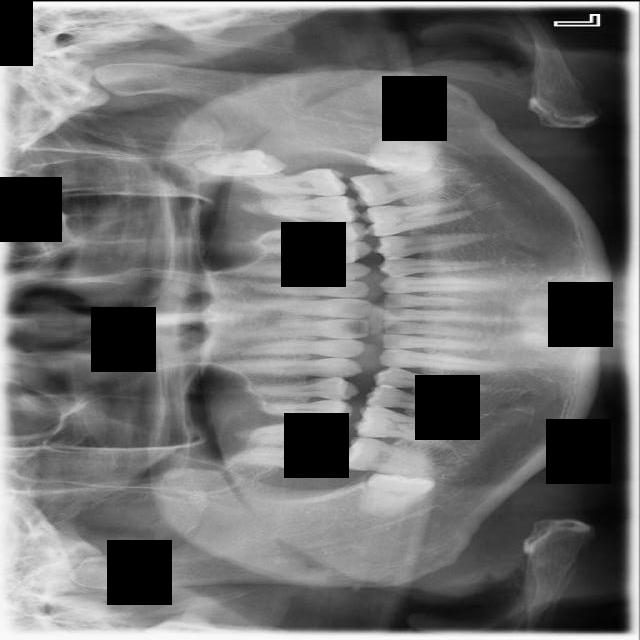73: (604, 18, 608, 24)
BioHorizons Implant: (240, 166, 349, 196)
BioLife Implant: (191, 147, 290, 178)
Biomet 3i Implant: (363, 125, 439, 180)
Blue Sky Bio Implant: (347, 166, 452, 208)
Caries: (216, 444, 336, 475)
Implant: (336, 432, 447, 481)
Keystone Dental Implant: (363, 472, 437, 516)
